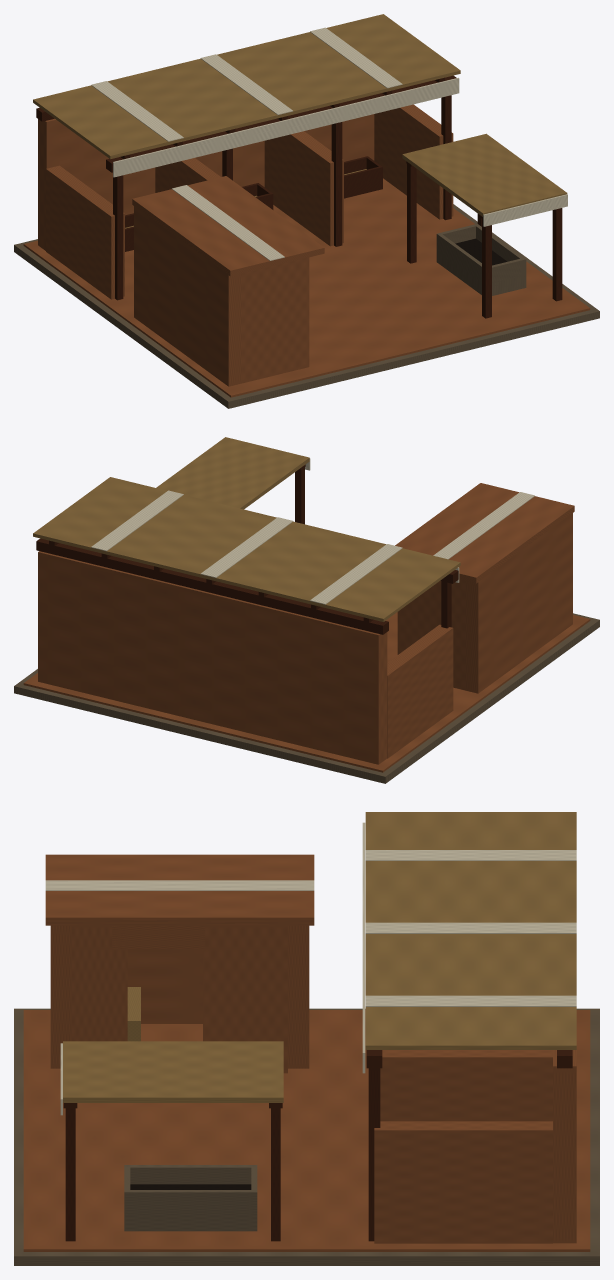
The model's file is Berber_Stable_Age2.fbx.
3 renders of one model, top to bottom at view 1: azimuth 30°, elevation 25°; view 2: azimuth 150°, elevation 25°; view 3: azimuth 270°, elevation 25°, orthographic. The views are drawn at different scales.
Parts seen in each view (by area): view 1: court_floor, stall_roof, tack_west, tack_roof, stall_rear_wall, foundation, tack_south, water_shade_roof, stall_partition_0, stall_partition_2, owner_stall_valance, stall_partition_3 (+18 smaller); view 2: stall_rear_wall, stall_roof, tack_west, tack_roof, foundation, stall_partition_0, water_shade_roof, court_floor, stall_rear_beam, tack_north, tack_roof_owner_strip, owner_roof_stripe.001 (+4 smaller); view 3: court_floor, stall_roof, stall_partition_3, tack_roof, water_shade_roof, foundation, stall_partition_2, tack_east_back, tack_east_front, tack_west, stall_rear_wall, trough_long_rim.001 (+15 smaller).
Part boxes in pixels (x1,y1,x2,y2): court_floor: [23, 178, 590, 397]; stall_roof: [33, 14, 460, 159]; tack_west: [134, 206, 242, 386]; tack_roof: [132, 176, 324, 276]; stall_rear_wall: [38, 114, 374, 250]; foundation: [14, 204, 599, 408]; tack_south: [242, 257, 309, 383]; water_shade_roof: [402, 133, 567, 216]; stall_partition_0: [46, 165, 124, 299]; stall_partition_2: [264, 131, 343, 246]; owner_stall_valance: [113, 77, 459, 177]; stall_partition_3: [374, 104, 453, 219]; stall_rear_wall: [38, 551, 387, 764]; stall_roof: [33, 477, 460, 621]; tack_west: [464, 513, 572, 693]; tack_roof: [395, 483, 574, 583]; foundation: [14, 613, 599, 783]; stall_partition_0: [387, 624, 453, 758]; water_shade_roof: [156, 437, 309, 509]; court_floor: [23, 612, 590, 772]; stall_rear_beam: [36, 538, 388, 634]; tack_north: [397, 579, 464, 690]; tack_roof_owner_strip: [433, 492, 534, 559]; owner_roof_stripe.001: [200, 517, 293, 577]; court_floor: [23, 1010, 590, 1251]; stall_roof: [365, 812, 576, 1049]; stall_partition_3: [374, 1121, 552, 1243]; tack_roof: [45, 854, 314, 925]; water_shade_roof: [63, 1041, 283, 1102]; foundation: [14, 1008, 599, 1265]; stall_partition_2: [380, 1050, 552, 1121]; tack_east_back: [203, 925, 287, 1073]; tack_east_front: [72, 925, 127, 1041]; tack_west: [127, 949, 202, 1023]; stall_rear_wall: [553, 1050, 576, 1243]; trough_long_rim.001: [124, 1190, 257, 1213].
Bounding box in the file's own units: 600 × 242 × 600.
Materials: 7 (7 with a texture image).
